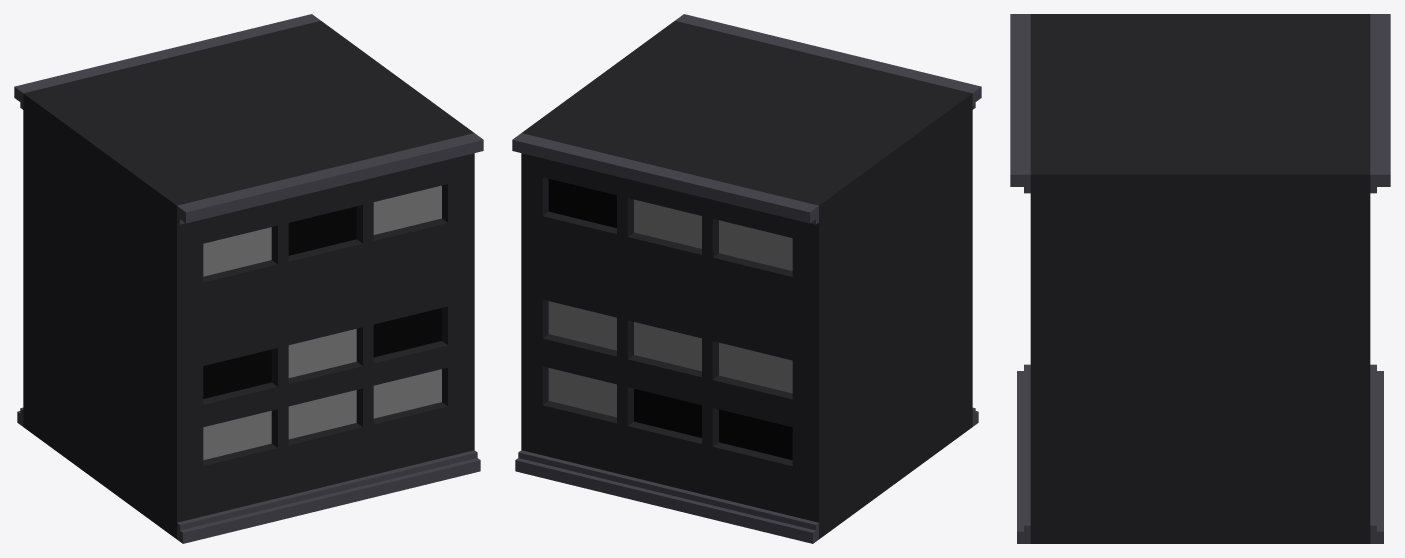
The model's file is Building008(3).obj.
The picture shows the model from 3 angles, left to right: view 1: azimuth 30°, elevation 25°; view 2: azimuth 150°, elevation 25°; view 3: azimuth 270°, elevation 25°; orthographic projection. The views are drawn at different scales.
Size of the model in its own units: 5.6 by 6 by 5.6.
1 material, 1 textured.
